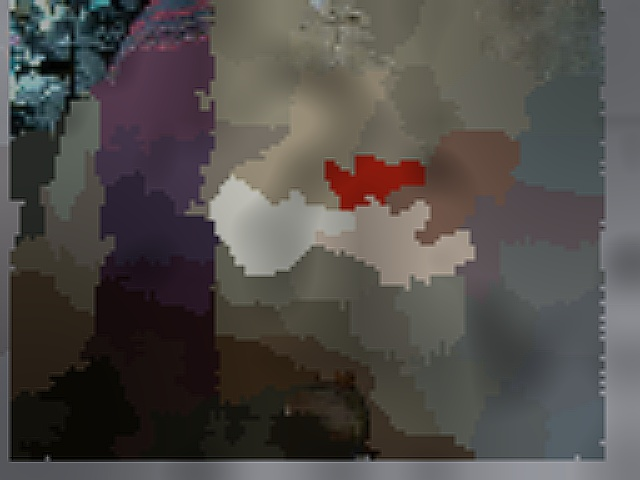eight: (253, 152, 295, 187)
